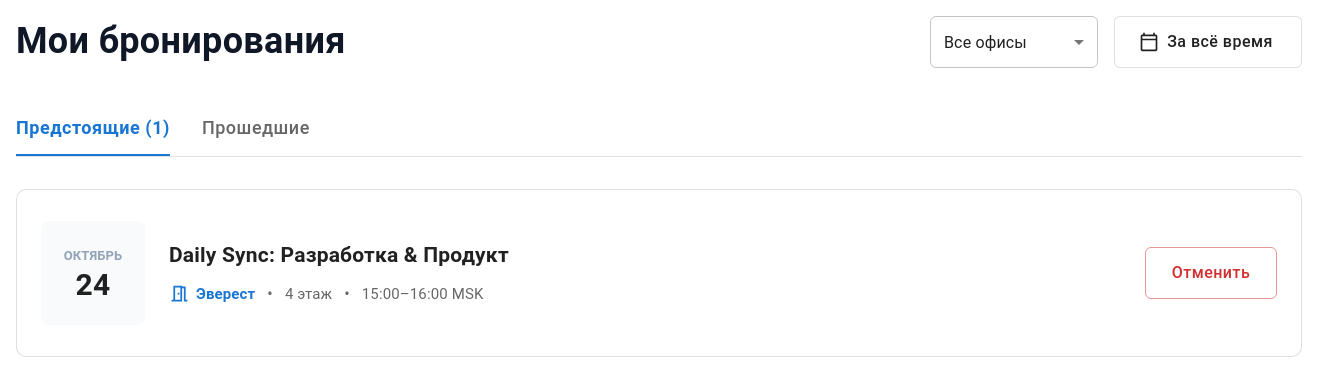
Test: BookingsPage › requests past bookings after switching tabs
This screenshot has width=1319, height=374.
Click the tab "Прошедшие": (256,128) [202, 100, 310, 156]
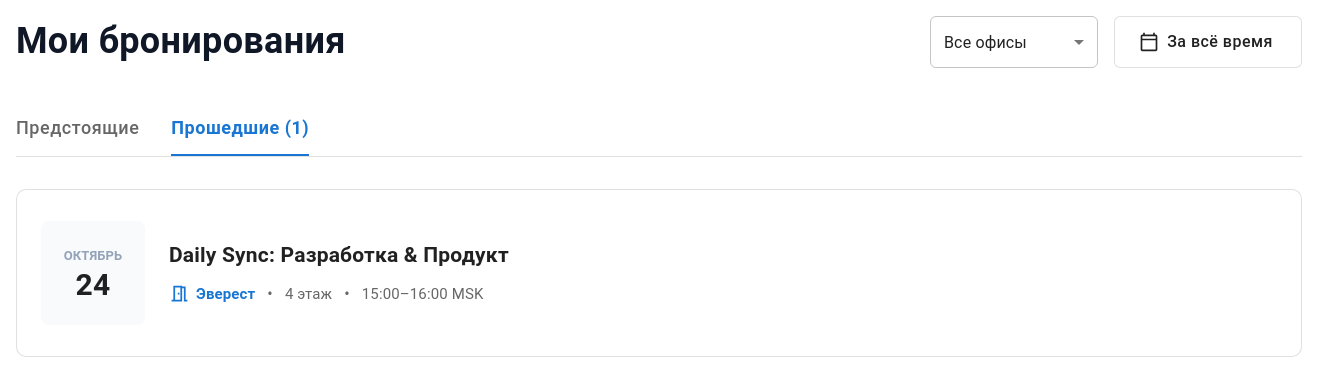
Expected: the button "Отменить" is gone
